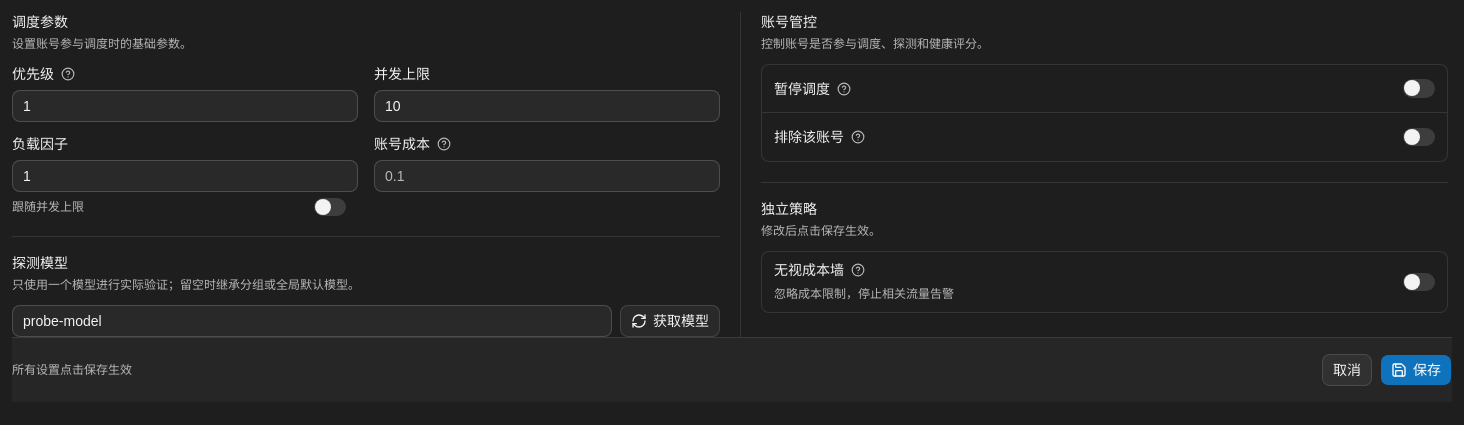
Test: 清空 并发上限 后提交会关联错误并标记无效，修正后清除
Clear the number field named "并发上限" at (547, 106), box [374,90,720,122]
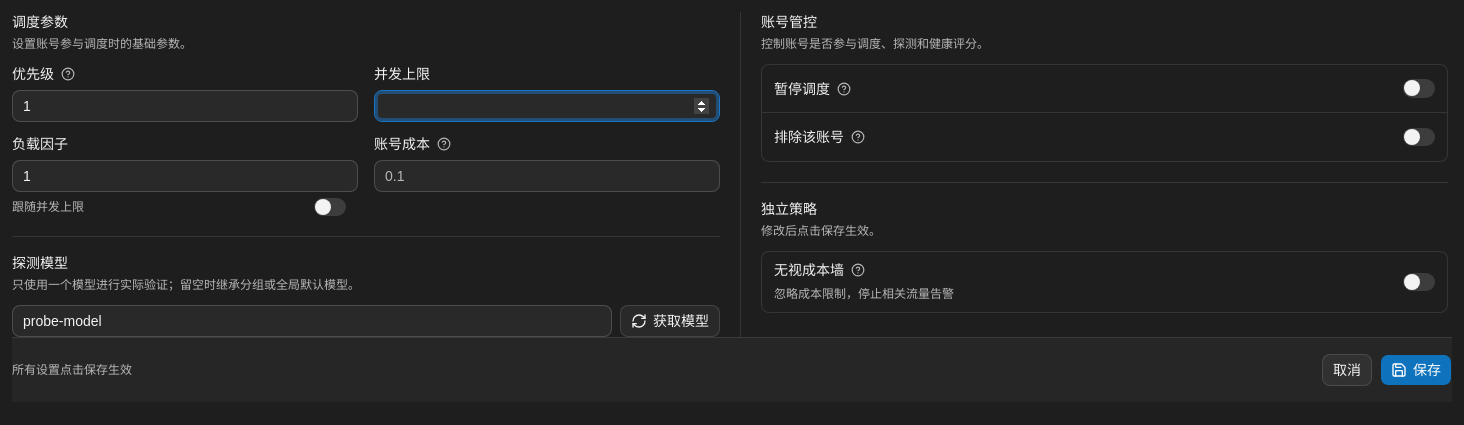
Click the button "保存".
click(1416, 370)  # box [1380,354,1452,386]
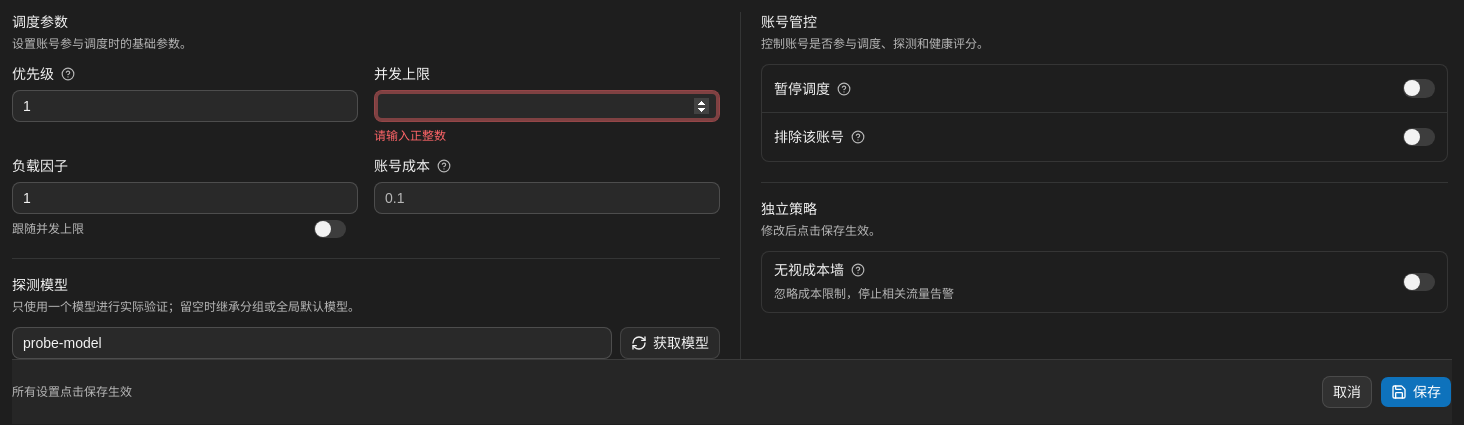
Expected: the text "请输入正整数" is shown, [374,129,446,143]
Type "2" into the number field named "并发上限".
click(547, 106); type("2")  # box [374,90,720,122]
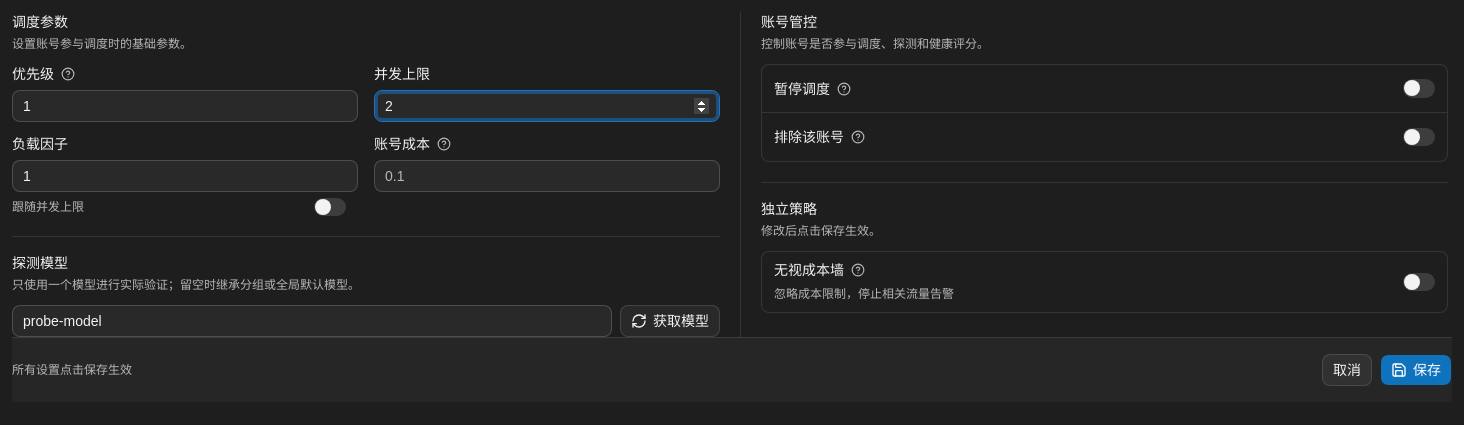
Expected: the text "请输入正整数" is gone
